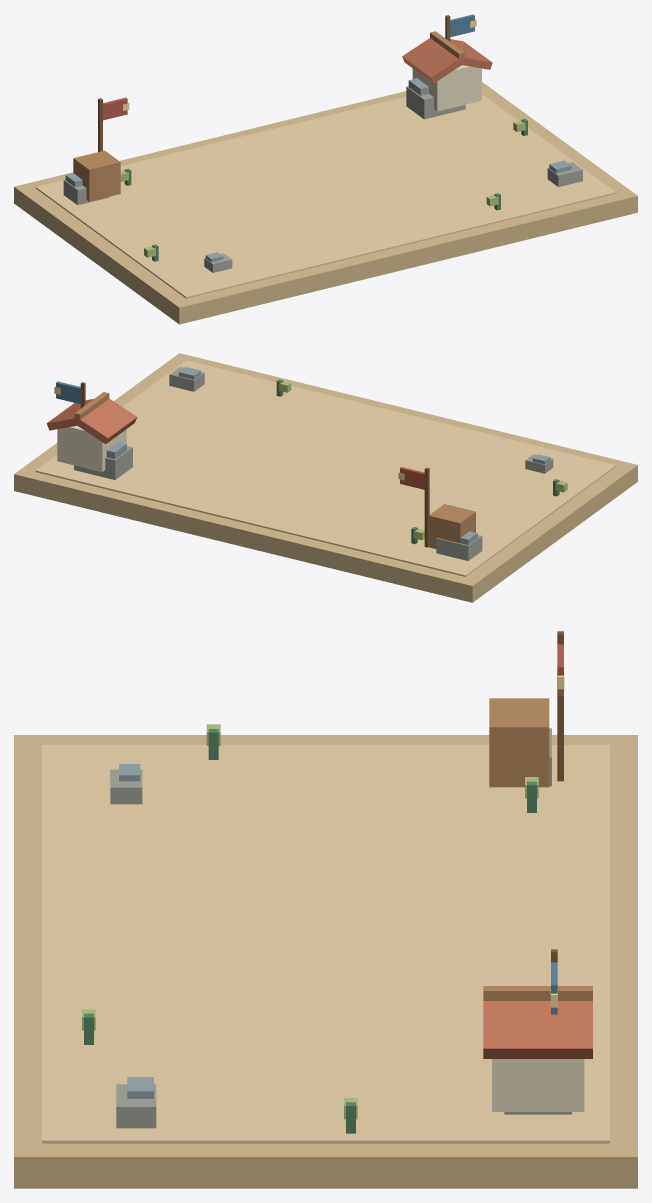
The model's file is battle_props.glb.
The picture shows the model from 3 angles, top to bottom: view 1: azimuth 30°, elevation 25°; view 2: azimuth 150°, elevation 25°; view 3: azimuth 270°, elevation 25°; orthographic projection. The views are drawn at different scales.
Size of the model in its own units: 8 by 1.72 by 5.
